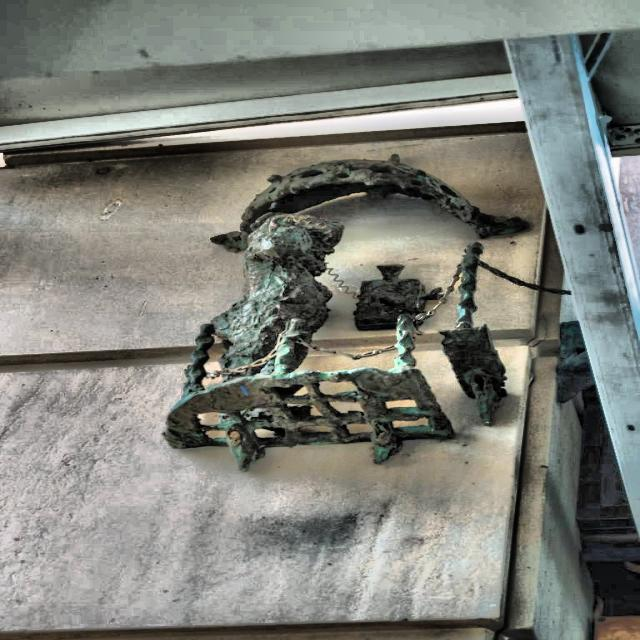Dryndek: (164, 156, 529, 471)
